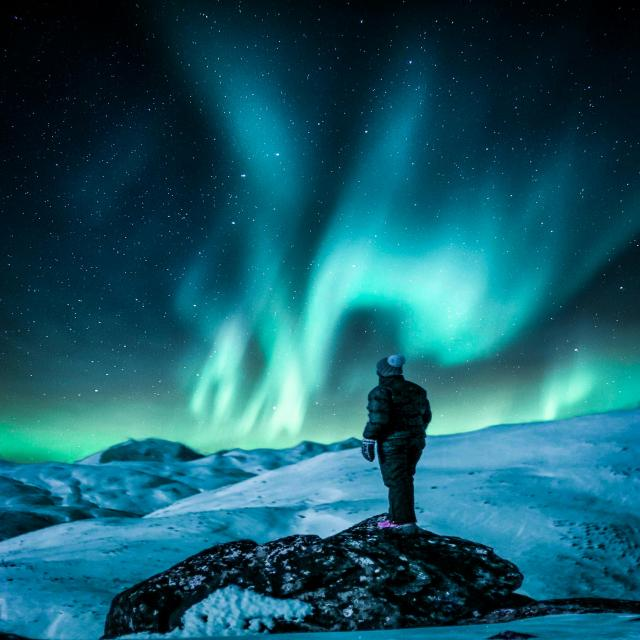stand: (355, 348, 443, 540)
